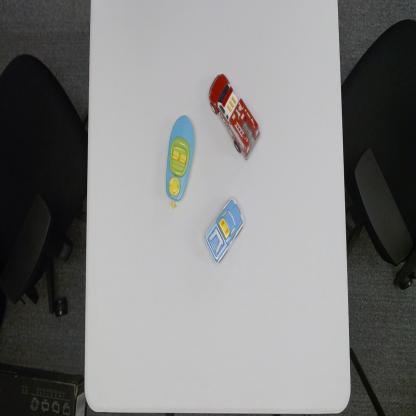Boat: (164, 113, 196, 209)
Car: (204, 195, 246, 266)
Firetruck: (208, 72, 262, 162)
